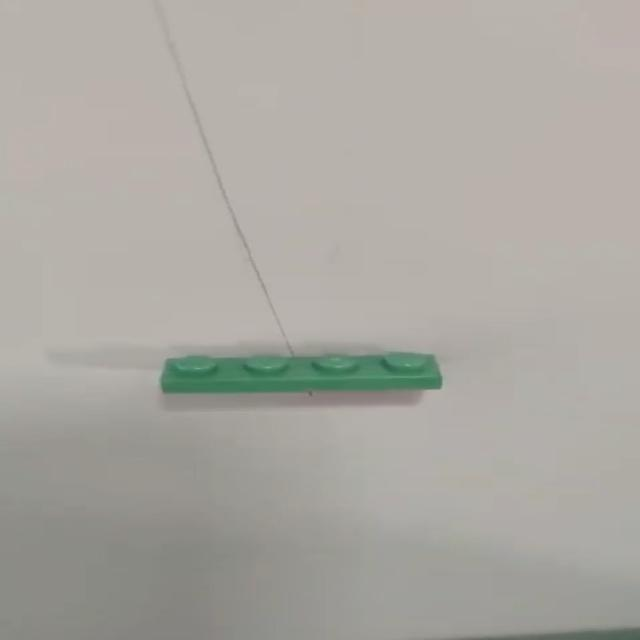C4x1x0: (69, 348, 449, 396)
